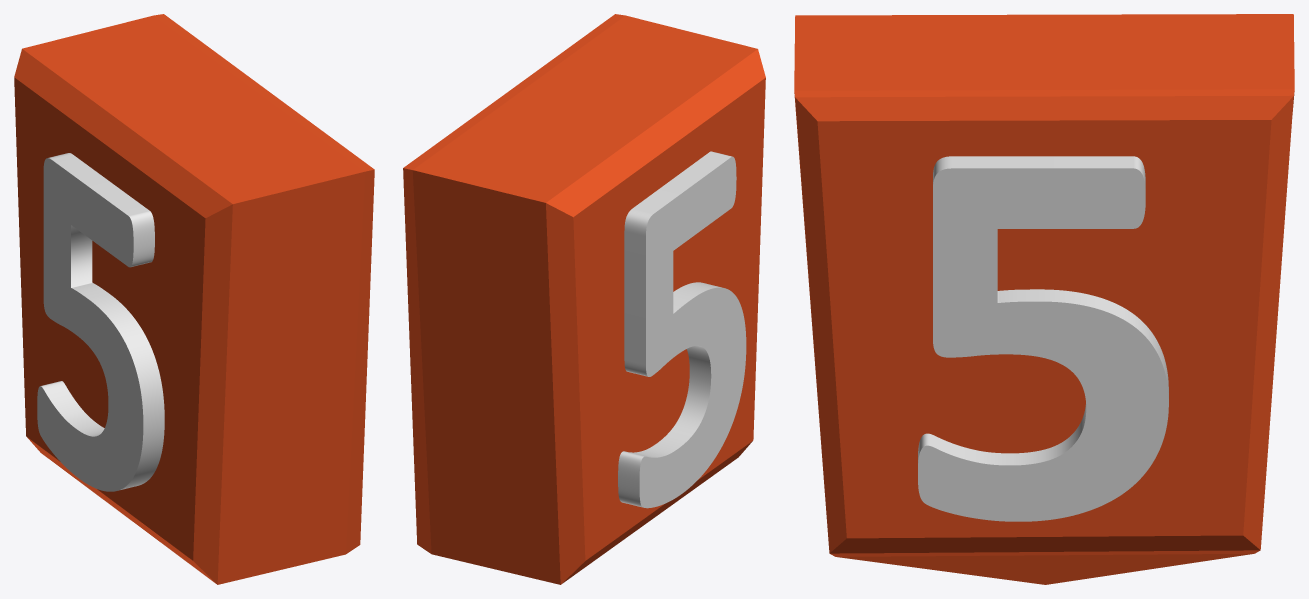
The model's file is HTML.glb.
3 views of the same model, side by side, from view 1: azimuth 30°, elevation 25°; view 2: azimuth 150°, elevation 25°; view 3: azimuth 270°, elevation 25° (orthographic). The views are drawn at different scales.
Visible parts, largest first — view 1: Cube, Text.001; view 2: Cube, Text.001; view 3: Cube, Text.
Part boxes in pixels (x1,y1,x2,y2): Cube: (14, 14, 374, 584); Text.001: (37, 153, 164, 491); Cube: (403, 14, 765, 584); Text.001: (618, 151, 746, 508); Cube: (794, 14, 1294, 584); Text: (918, 156, 1168, 521).
Bounding box in the file's own units: 0.374 × 0.7695 × 0.6542.
